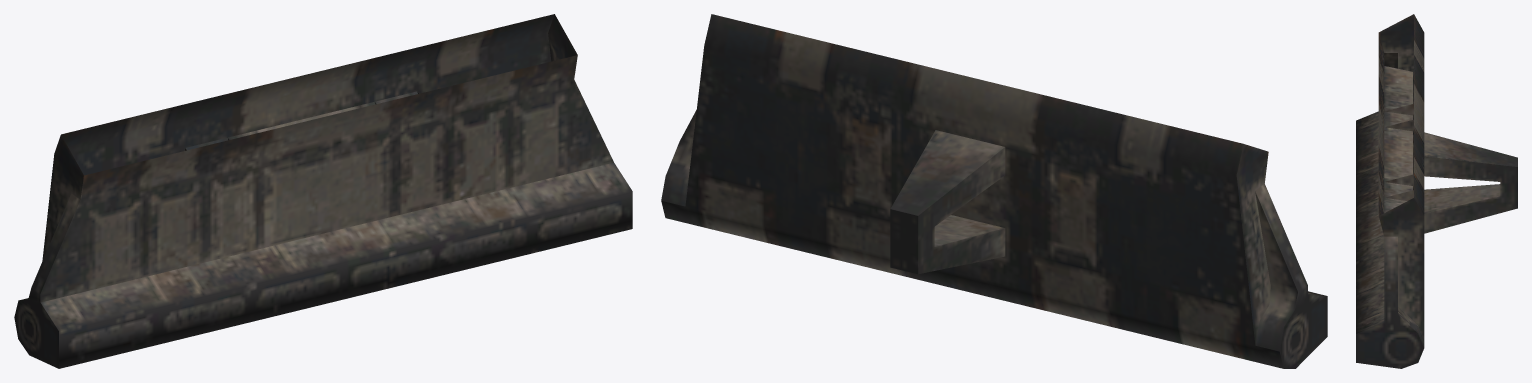
The picture shows the model from 3 angles, left to right: view 1: azimuth 30°, elevation 25°; view 2: azimuth 150°, elevation 25°; view 3: azimuth 270°, elevation 25°; orthographic projection. The views are drawn at different scales.
Parts seen in each view (by area): view 1: set_0_group_0; view 2: set_0_group_0; view 3: set_0_group_0.
Part boxes in pixels (x1=…): set_0_group_0: x1=14, y1=14, x2=632, y2=368; set_0_group_0: x1=661, y1=14, x2=1327, y2=368; set_0_group_0: x1=1356, y1=14, x2=1517, y2=368.
Bounding box in the file's own units: 0.445 × 0.152 × 0.1425.
Materials: 1 (1 with a texture image).
